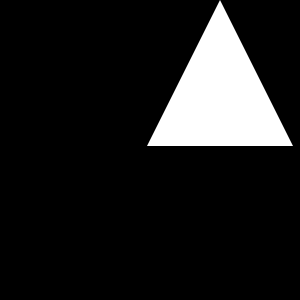triangle: (147, 0, 293, 146)
